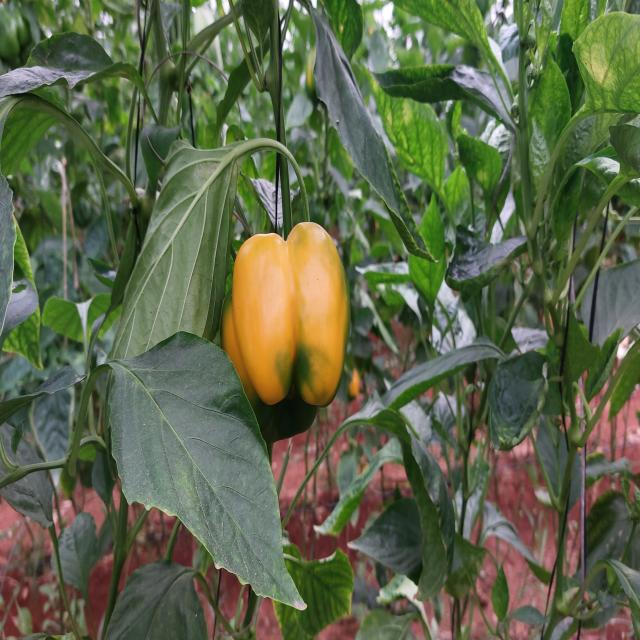Yellow-Ready-to-Harvest: (216, 213, 350, 432)
